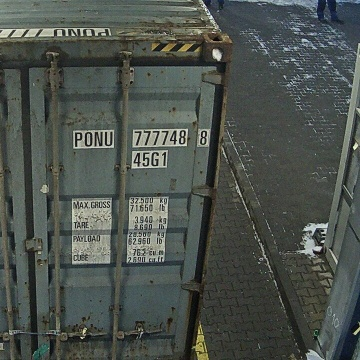serial_id: (74, 130, 207, 146)
